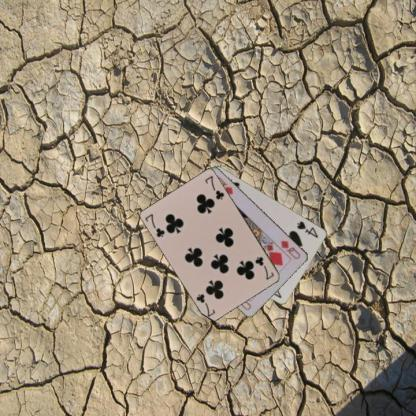4s: (295, 219, 320, 240)
7c: (252, 254, 275, 282), (143, 211, 166, 239)
Qd: (278, 238, 302, 260)
